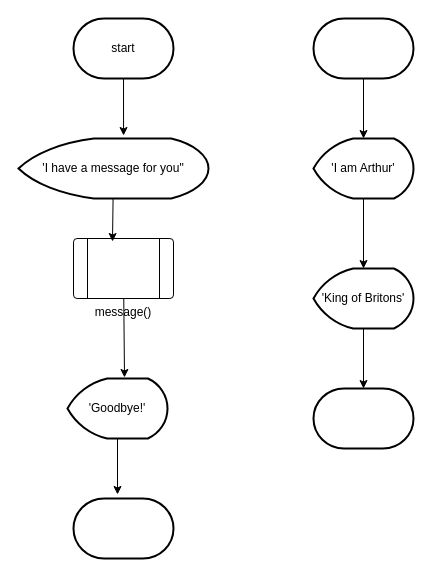
Some shapes in this 431 by 576 pixel diagram are drawn without their labels. The shapes that lost their labels are listed below. From the top down, each one's centre as x and y in pixels, then its label:
At point 363,48: "Message".
At point 363,418: "Returns".
At point 123,528: "Stop".
